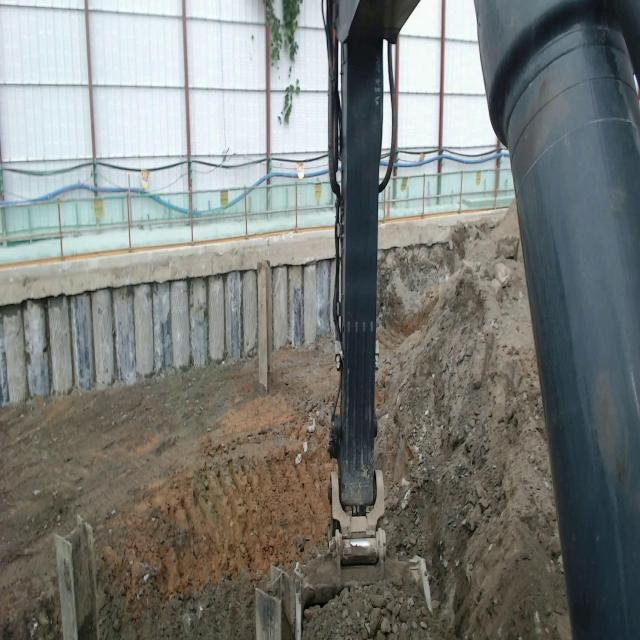cement: (0, 225, 335, 306), (379, 209, 506, 249)
red-sand: (303, 209, 570, 639), (0, 337, 338, 639)
